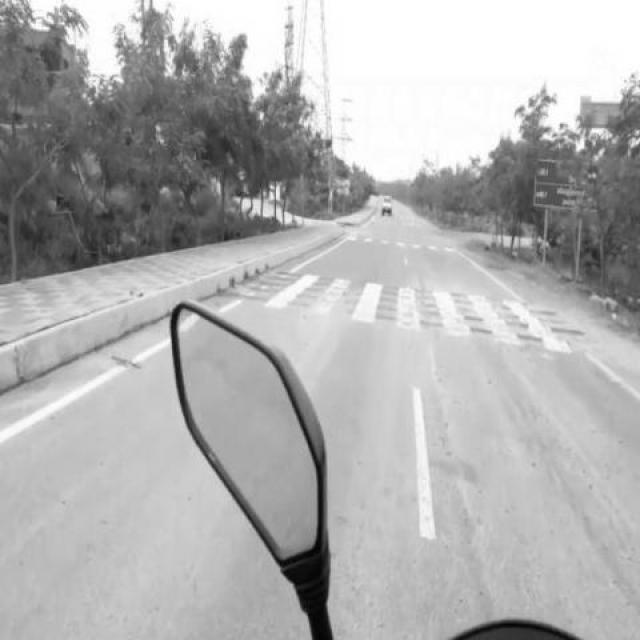Speed Bump: (278, 272, 584, 350)
